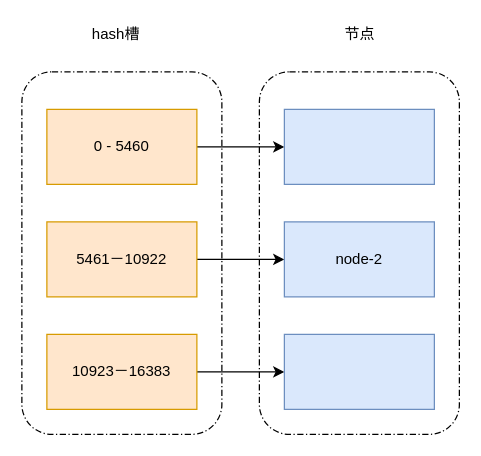
The diagram is 481 pixels wide and 456 high, and some of its shapes have lost their labels. Each missing label, with the centre of its shape:
node-1: (358,146)
node-3: (358,371)
